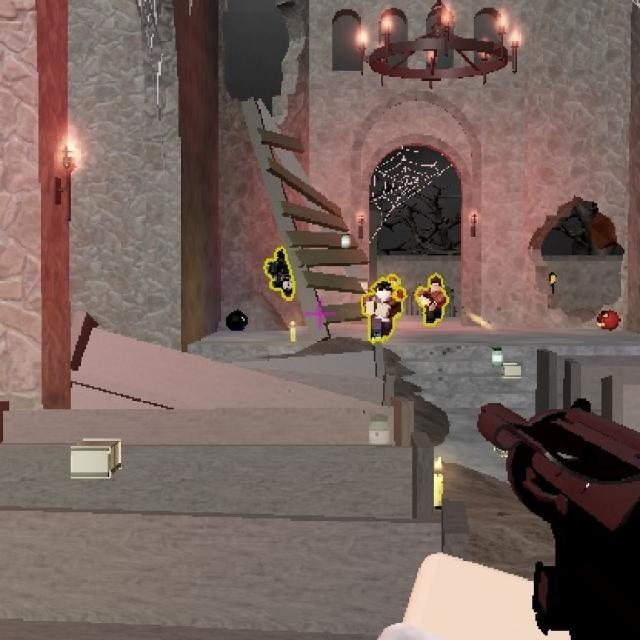player: (362, 283, 402, 343), (259, 246, 297, 302), (422, 274, 452, 324), (388, 268, 408, 297)
